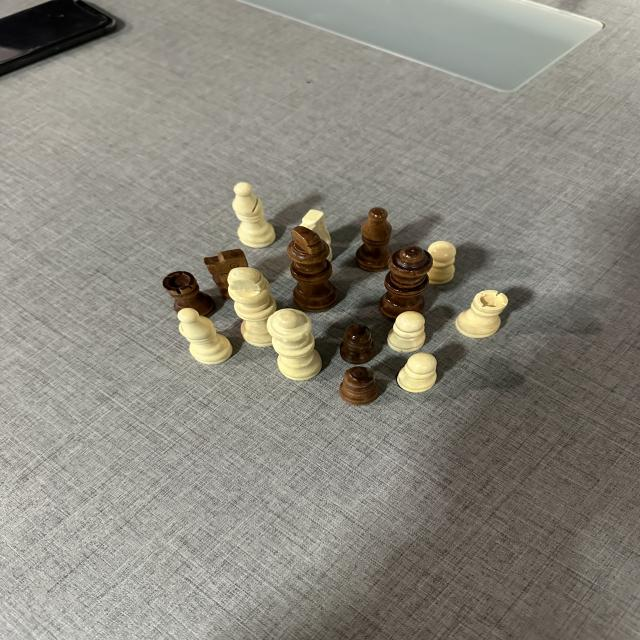Black-Bishop: (356, 208, 393, 272)
Black-King: (288, 226, 336, 312)
Black-Knight: (204, 249, 248, 302)
Black-Pawn: (338, 366, 378, 405), (340, 325, 375, 364)
Black-Queen: (378, 246, 432, 321)
Black-Rook: (163, 271, 215, 318)
White-Bishop: (178, 308, 232, 365), (232, 182, 276, 248)
White-King: (229, 267, 281, 347)
White-Knight: (298, 210, 333, 263)
White-Pawn: (387, 312, 426, 352), (397, 353, 436, 393), (428, 242, 455, 284)
White-Queen: (266, 309, 320, 380)
White-Rook: (456, 290, 507, 337)
